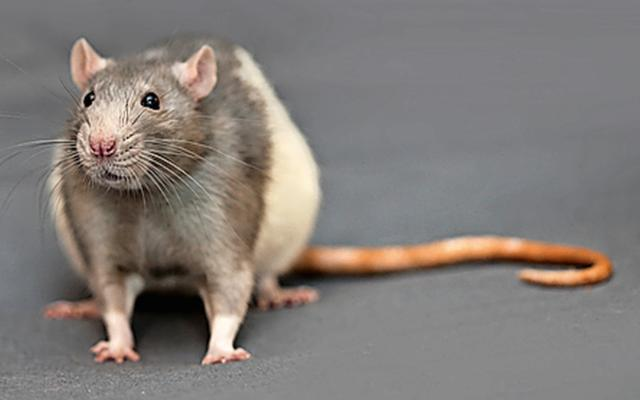rat: (21, 30, 348, 370)
